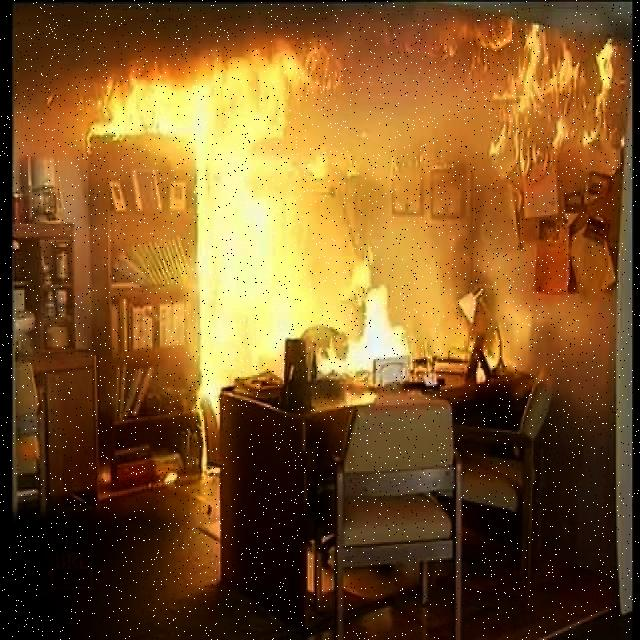fire: (112, 50, 430, 398), (476, 17, 616, 186)
